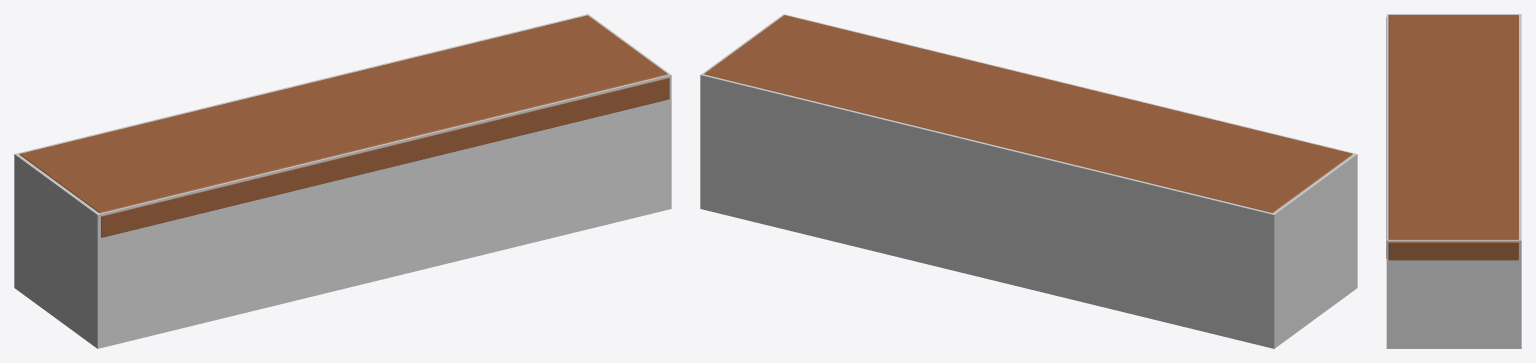
The model's file is wall-shelf-a.glb.
3 renders of one model, left to right at view 1: azimuth 30°, elevation 25°; view 2: azimuth 150°, elevation 25°; view 3: azimuth 270°, elevation 25°, orthographic. The views are drawn at different scales.
Visible parts, largest first — view 1: Wall shelf A_col, Wall shelf A; view 2: Wall shelf A_col, Wall shelf A; view 3: Wall shelf A, Wall shelf A_col.
Boxes of the visible parts, box(x1,y1,x2,y2) form: Wall shelf A_col: box(14, 14, 671, 348); Wall shelf A: box(19, 15, 669, 237); Wall shelf A_col: box(700, 14, 1357, 348); Wall shelf A: box(704, 15, 1352, 212); Wall shelf A: box(1386, 15, 1518, 260); Wall shelf A_col: box(1386, 14, 1521, 348).
Size of the model in its own units: 7.96 by 1.78 by 2.
